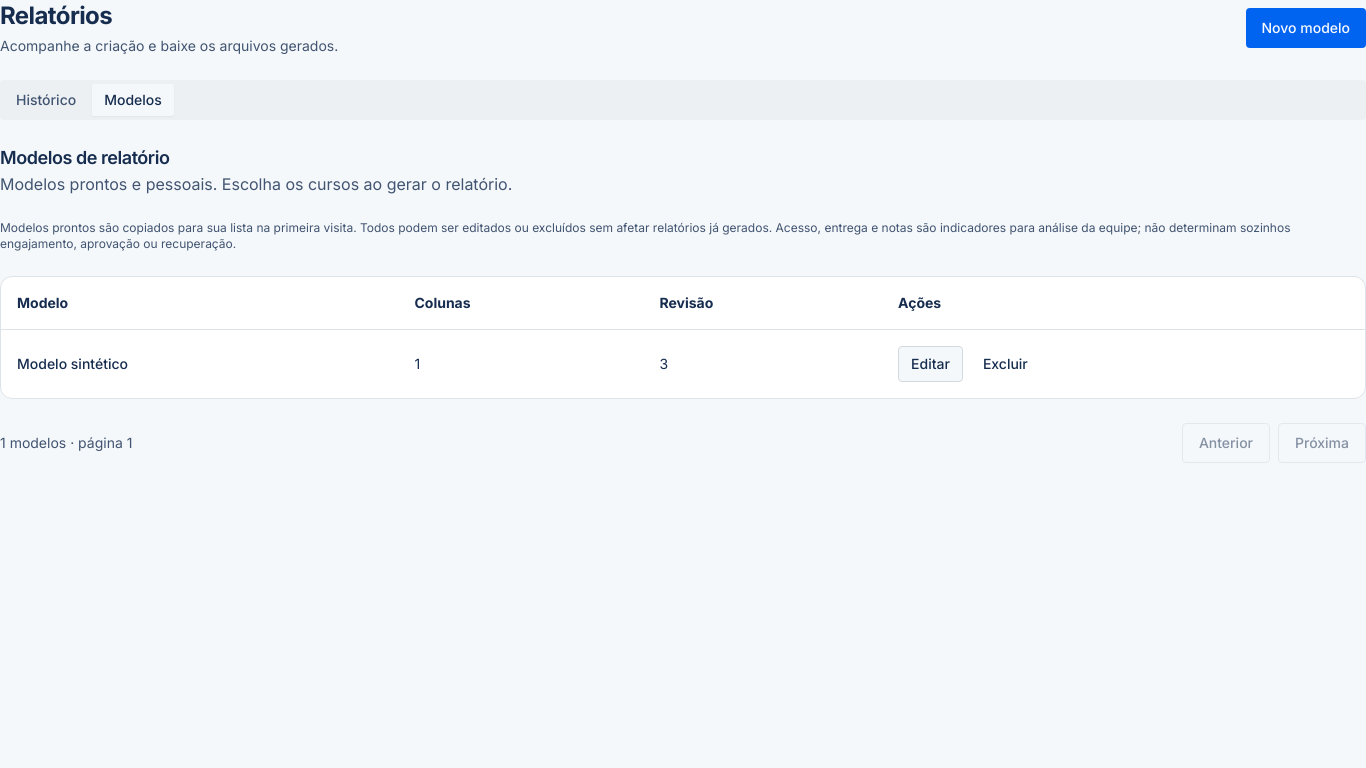
Test: modelos privados › requires confirmation and submits the displayed revision once while pending
This screenshot has width=1366, height=768.
Click the button with aria-label "Excluir Modelo sintético" at [1005, 364], box [971,346,1040,382]
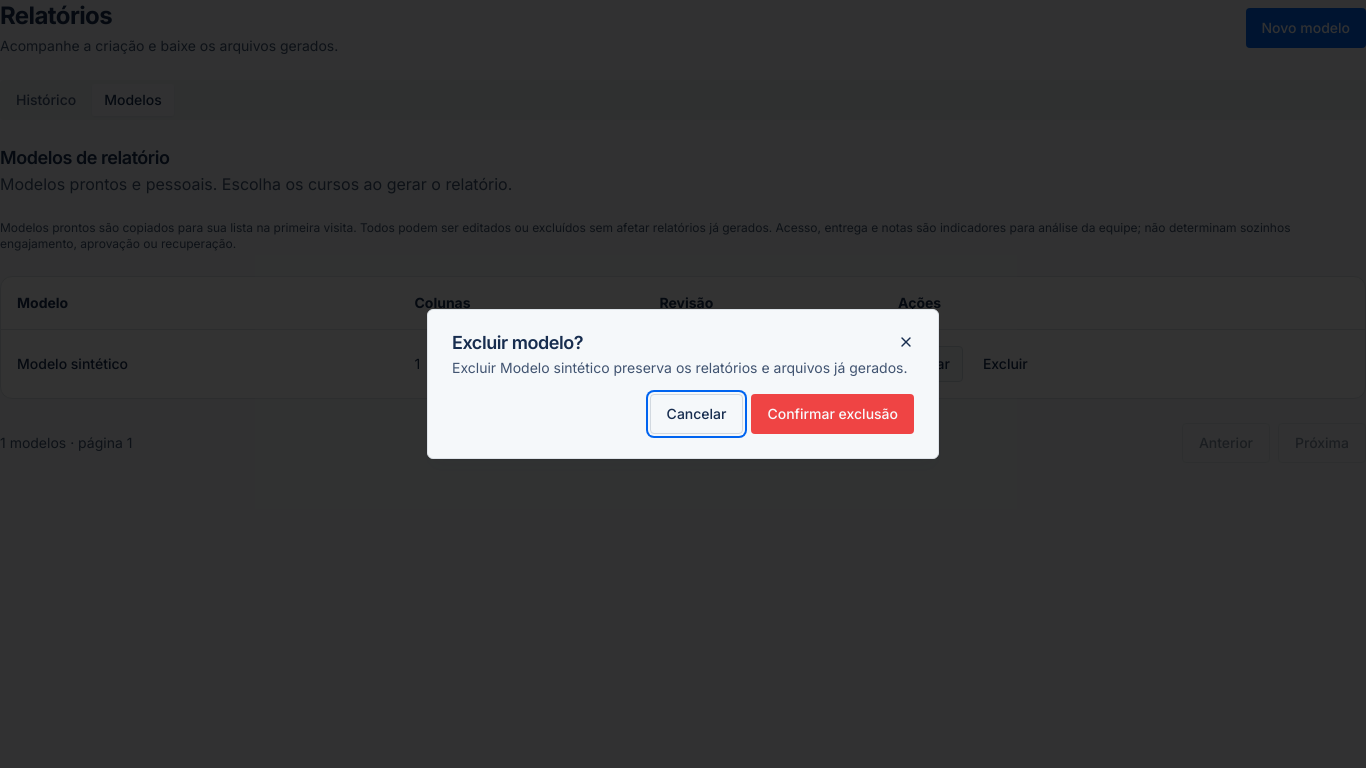
Click the button "Cancelar" at [696, 414], box [650,394,743,434]
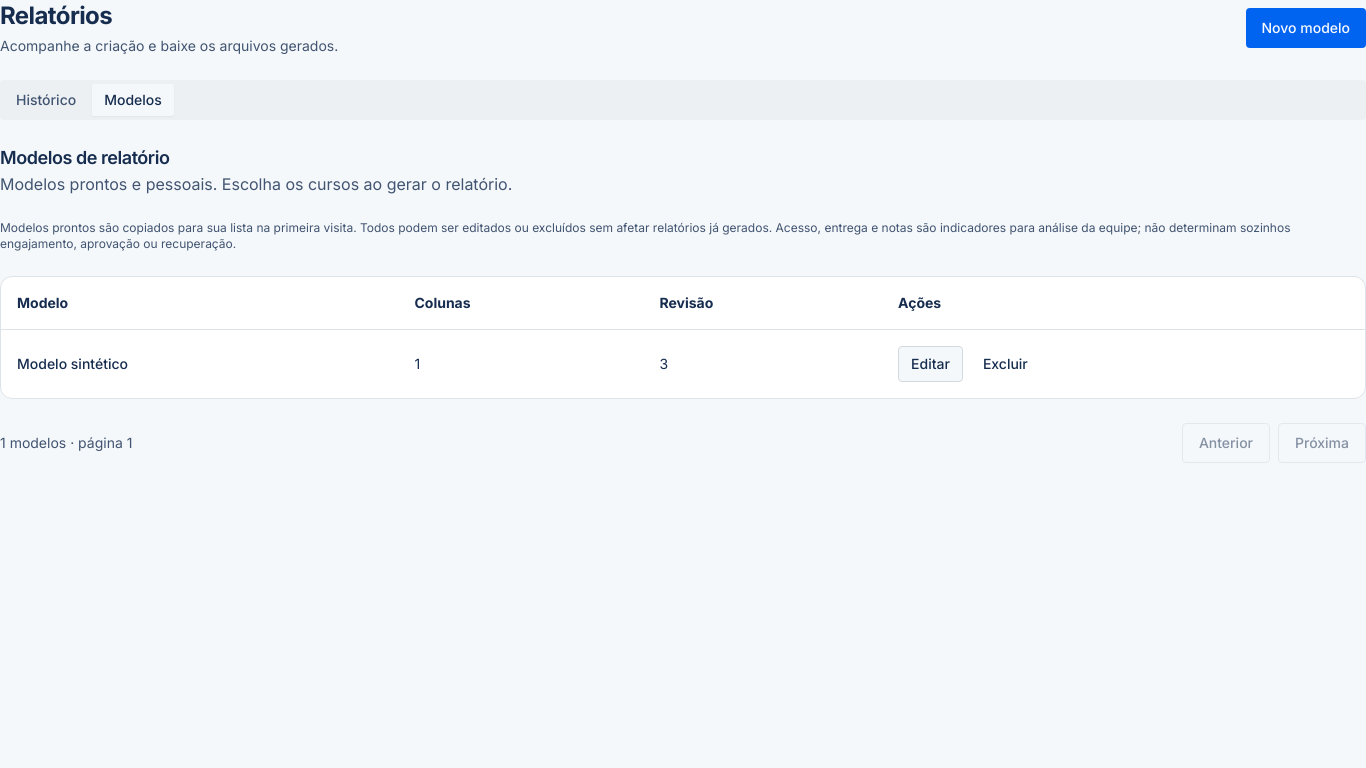
Click the button with aria-label "Excluir Modelo sintético" at [1005, 364], box [971,346,1040,382]
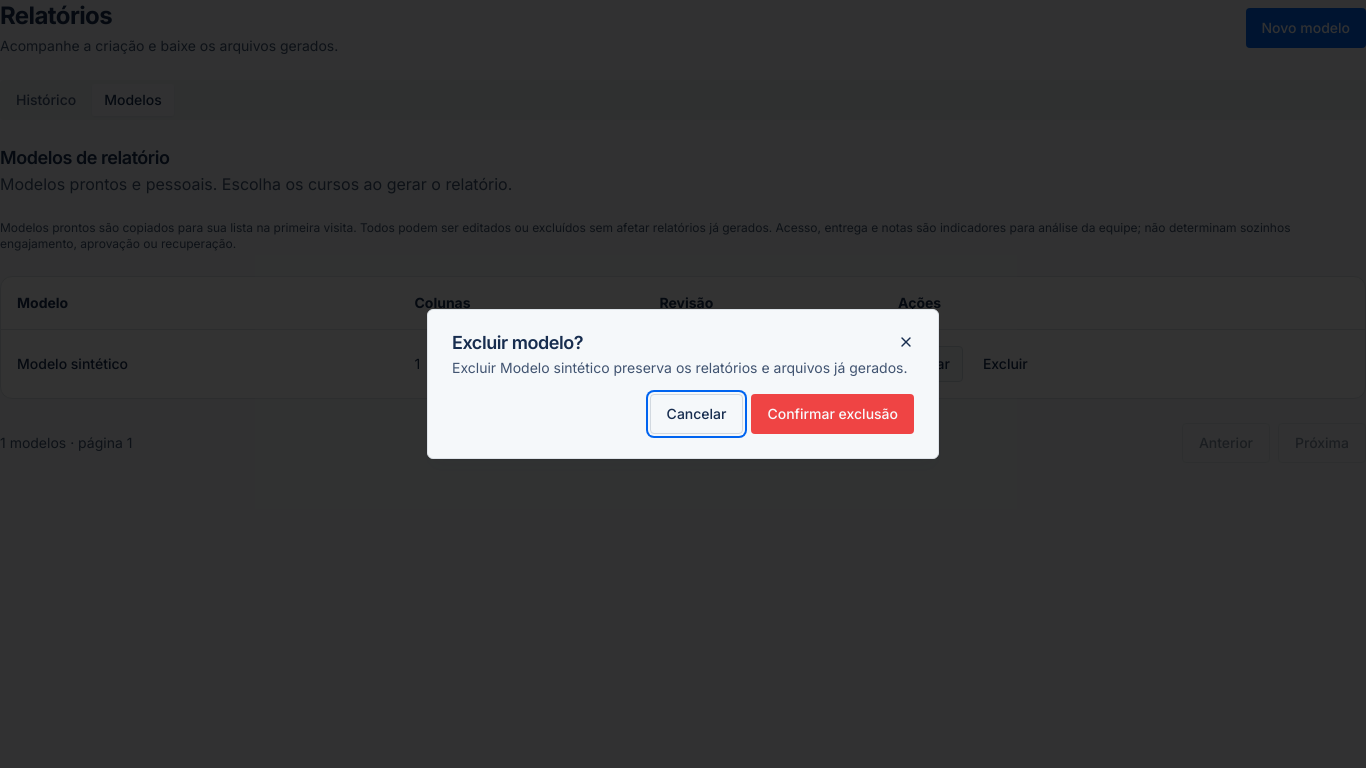
Double-click the button "Confirmar exclusão" at [833, 414], box [752,394,914,434]
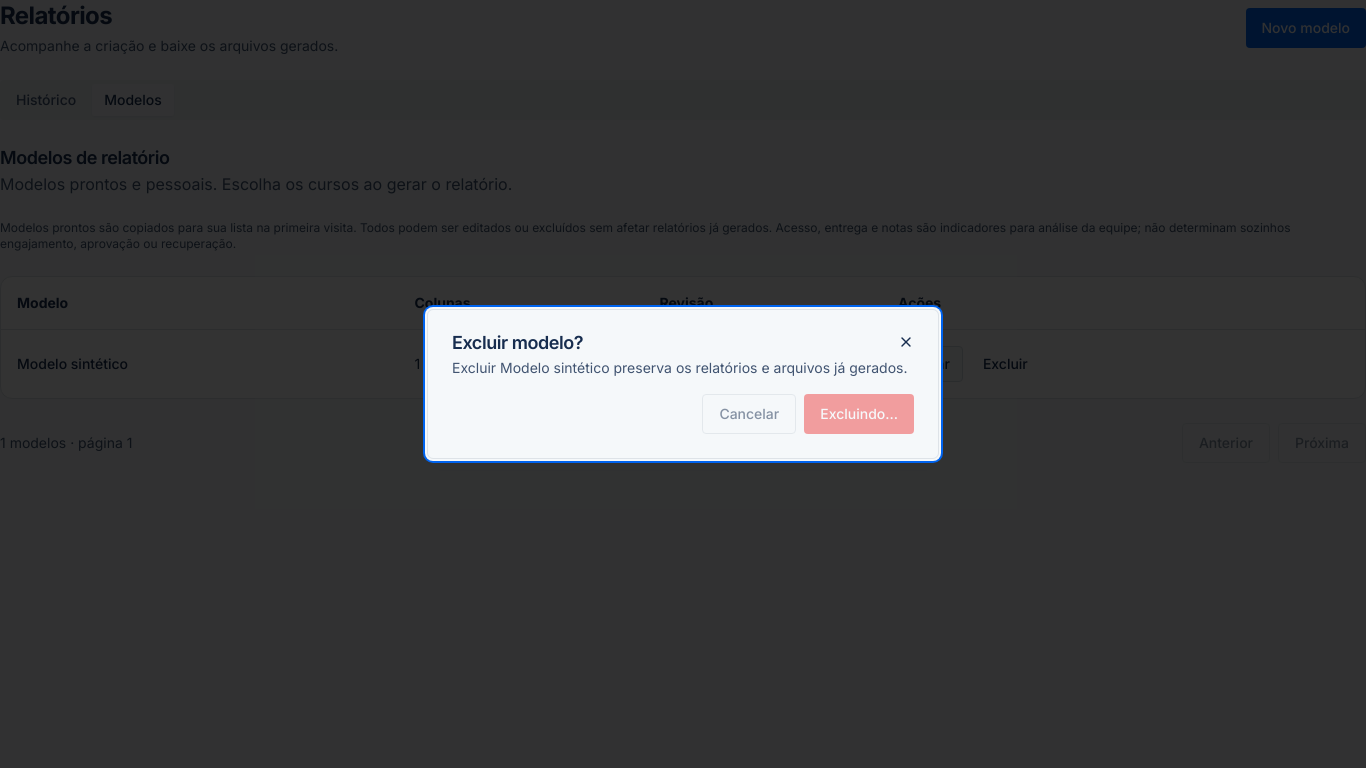
Result: the button "Excluindo…" is disabled at [804,394,914,434]
